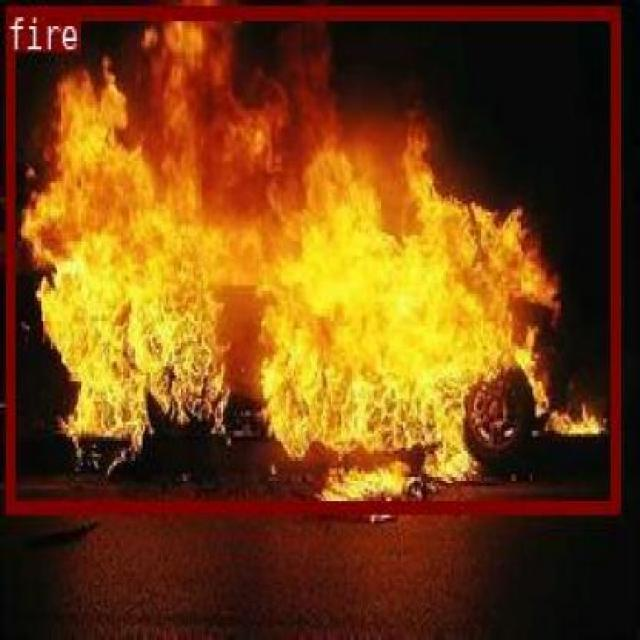Fire: (310, 256, 613, 506)
